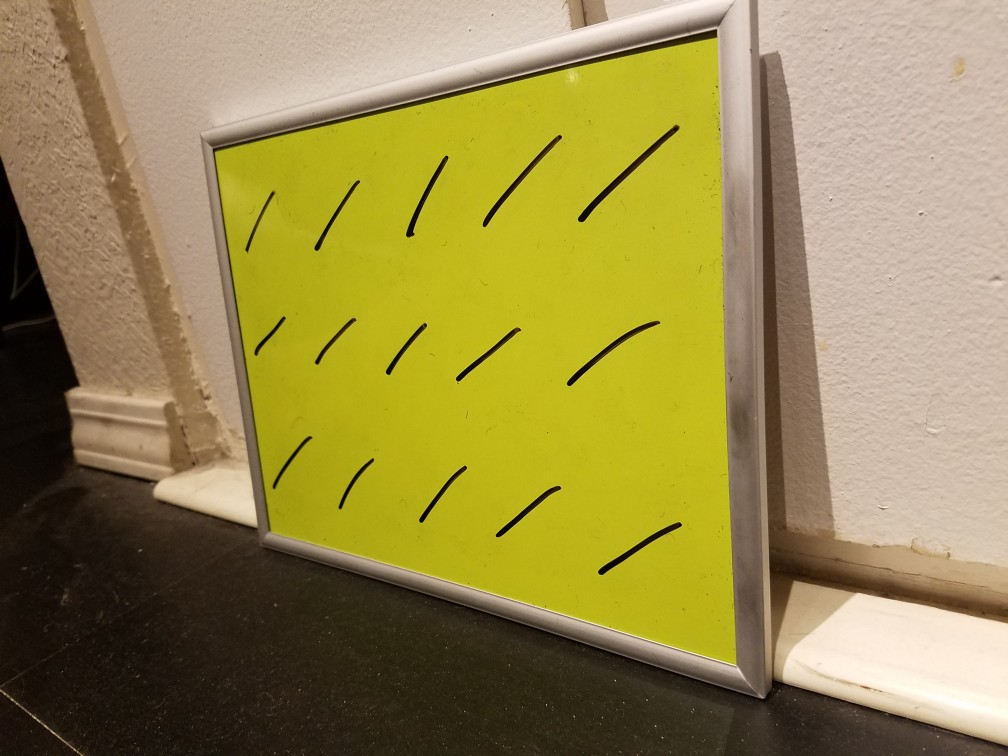/: (568, 120, 698, 234), (552, 309, 675, 404), (589, 495, 698, 594), (473, 127, 563, 234), (482, 469, 573, 557), (399, 452, 492, 536), (441, 317, 534, 399), (388, 140, 453, 242), (303, 175, 363, 260), (377, 311, 440, 391), (329, 445, 389, 522), (232, 180, 286, 258), (265, 422, 320, 497), (307, 310, 364, 374), (246, 310, 292, 366)
